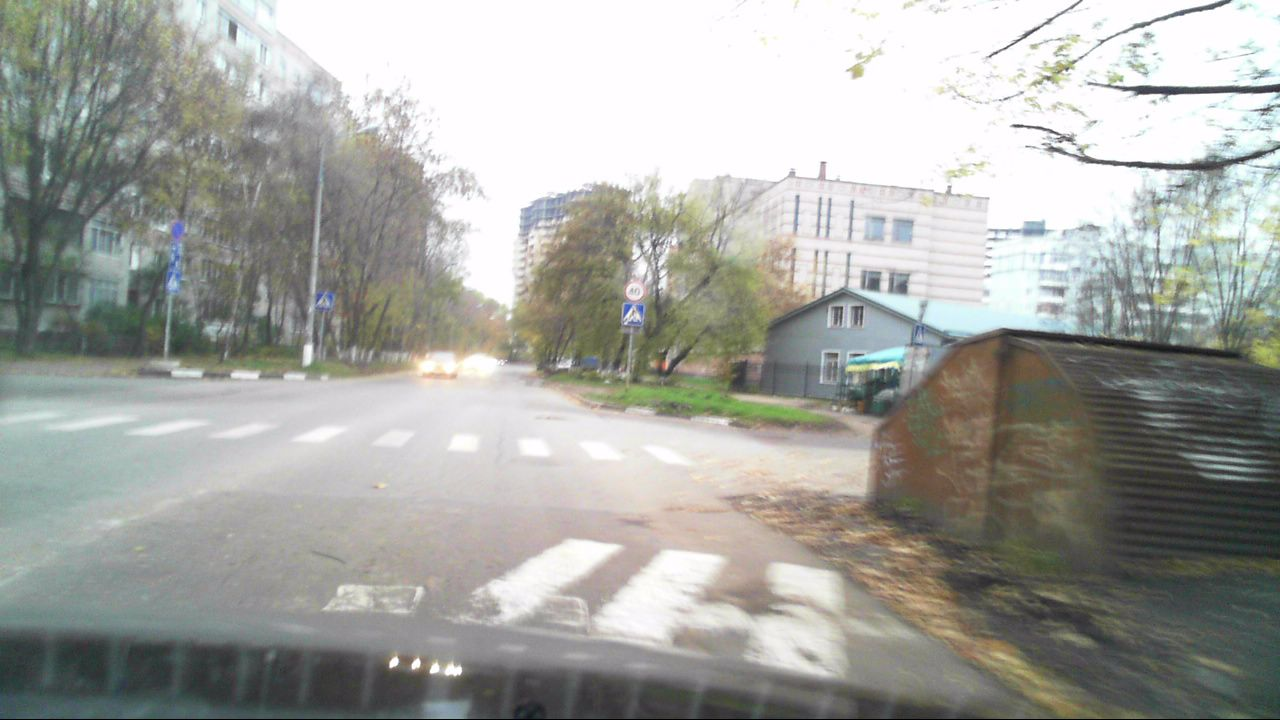speed_warning_40: (623, 282, 644, 302)
